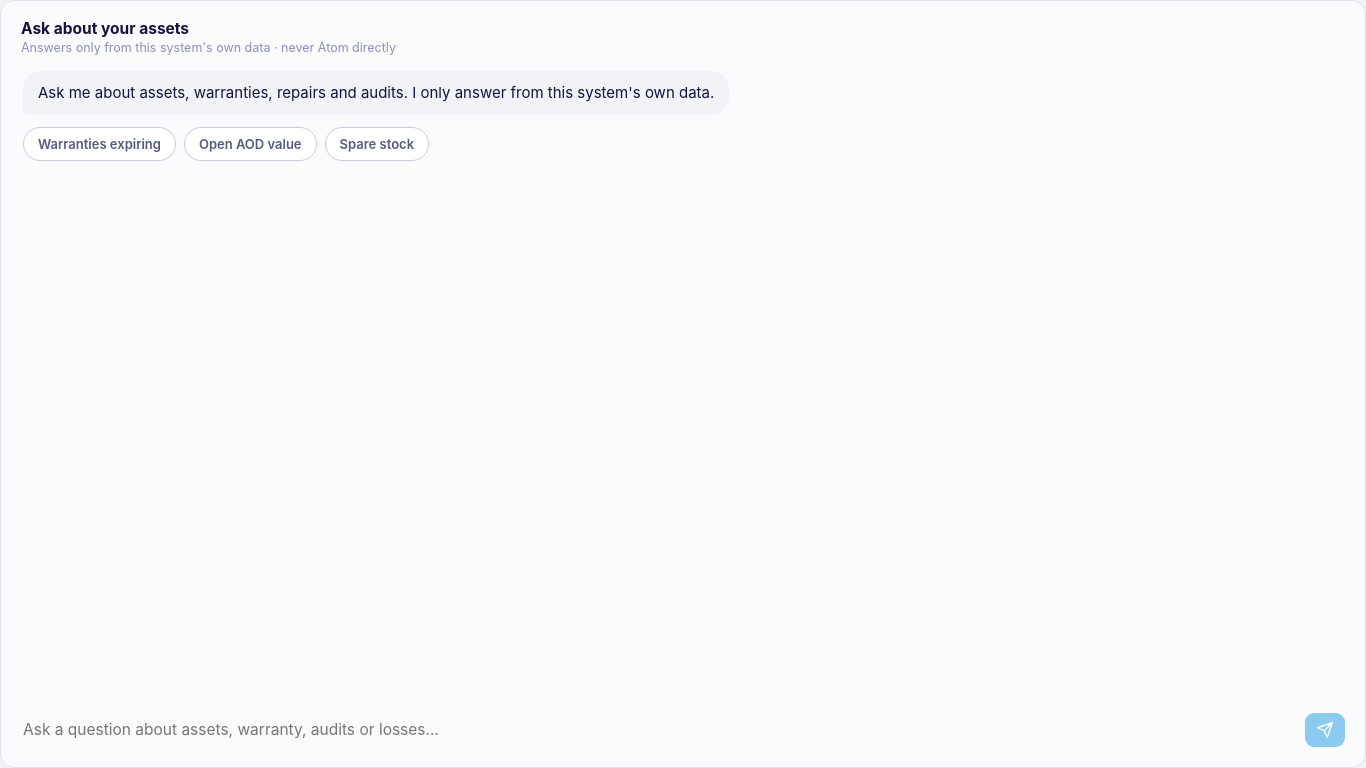
Test: ChatPanel › shows the question, then the answer with its source line
Type "How many laptops are available?" into the field named "Your question" at coordinates (658, 730), box [21,710,1295,749]
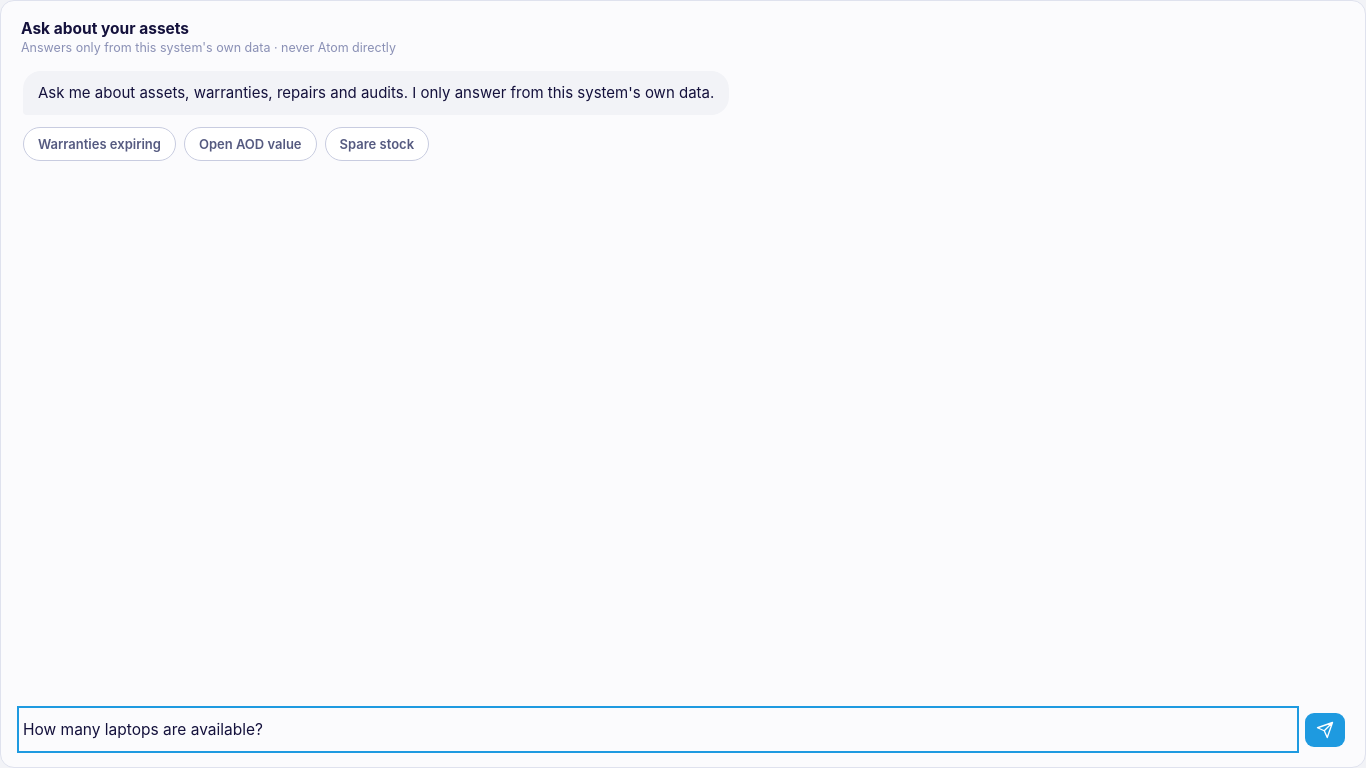
Click the button named "Send question" at coordinates (1325, 730), box [1305,712,1345,746]
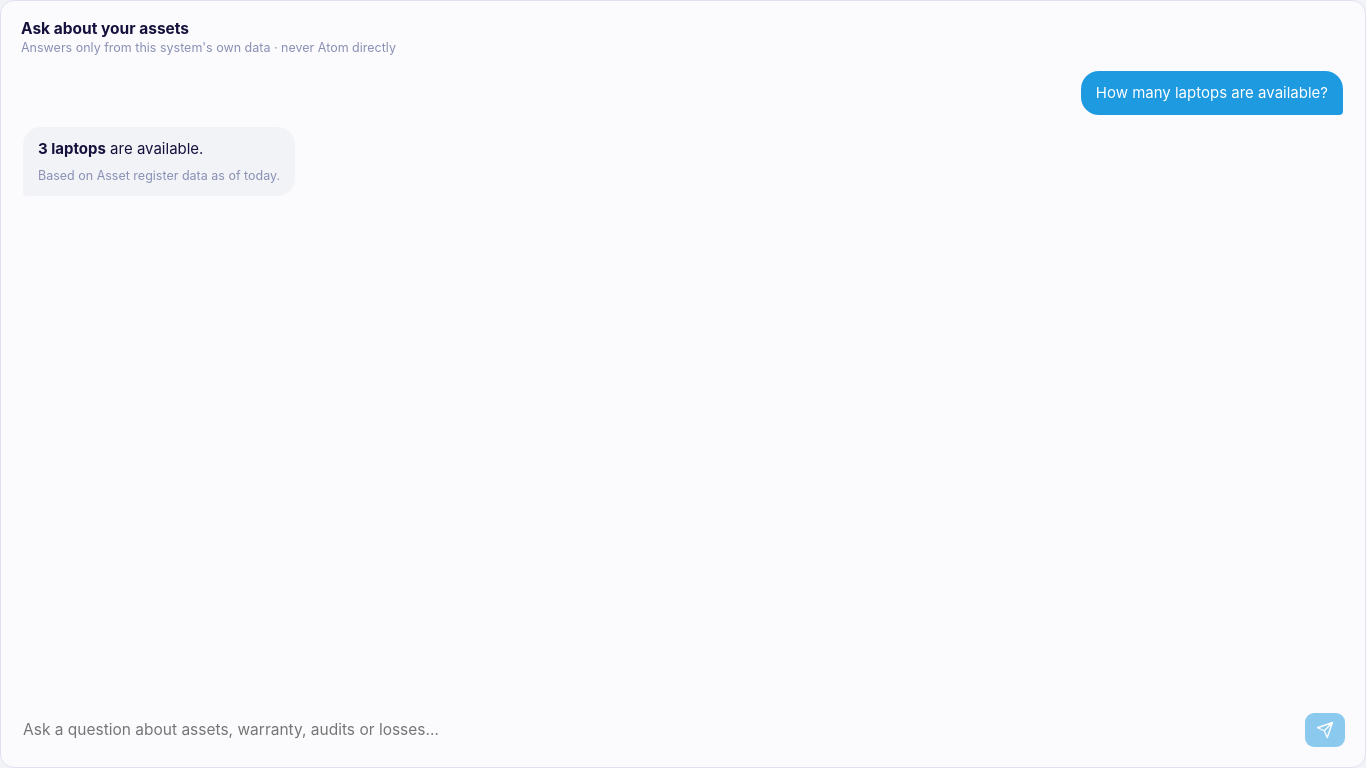
Expected: the text "How many laptops are available?" is shown, [1081,71,1343,115]
Expected: the text "3 laptops" is shown, [38,139,106,158]
Expected: the text "Based on Asset register data as of today." is shown, [38,166,280,185]
